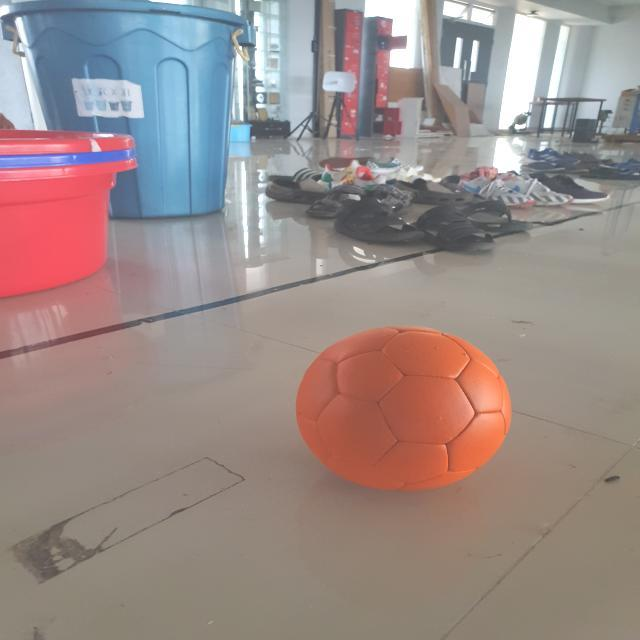bola: (293, 324, 516, 495)
